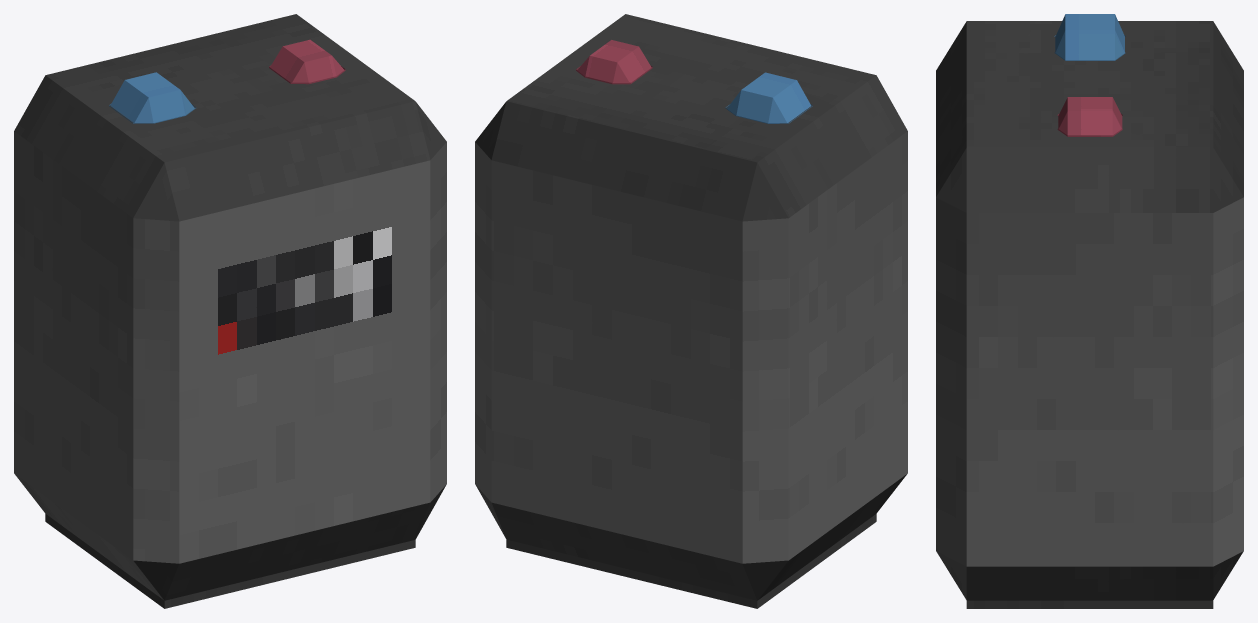
The model's file is accumulator.glb.
3 renders of one model, left to right at view 1: azimuth 30°, elevation 25°; view 2: azimuth 150°, elevation 25°; view 3: azimuth 270°, elevation 25°, orthographic. The views are drawn at different scales.
Visible parts, largest first — view 1: Cylinder.002; view 2: Cylinder.002; view 3: Cylinder.002.
Part boxes in pixels (left/top/right/bottom): Cylinder.002: left=14, top=14, right=446, bottom=608; Cylinder.002: left=475, top=14, right=907, bottom=608; Cylinder.002: left=936, top=14, right=1243, bottom=608.
Bounding box in the file's own units: 0.5654 × 0.8071 × 0.4649.
Materials: 1 (1 with a texture image).
